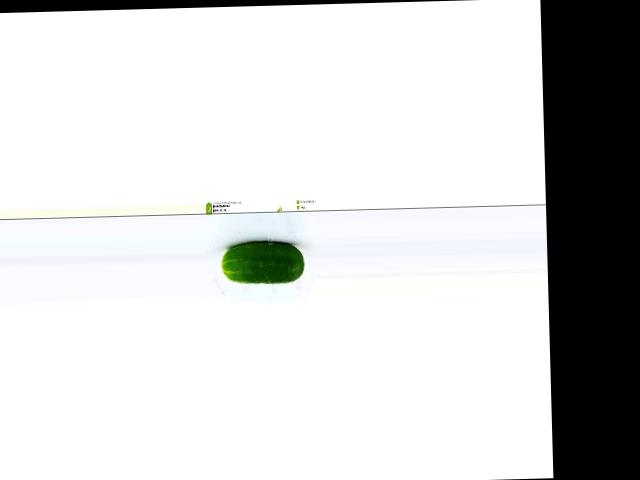cucumber: (221, 240, 305, 283)
